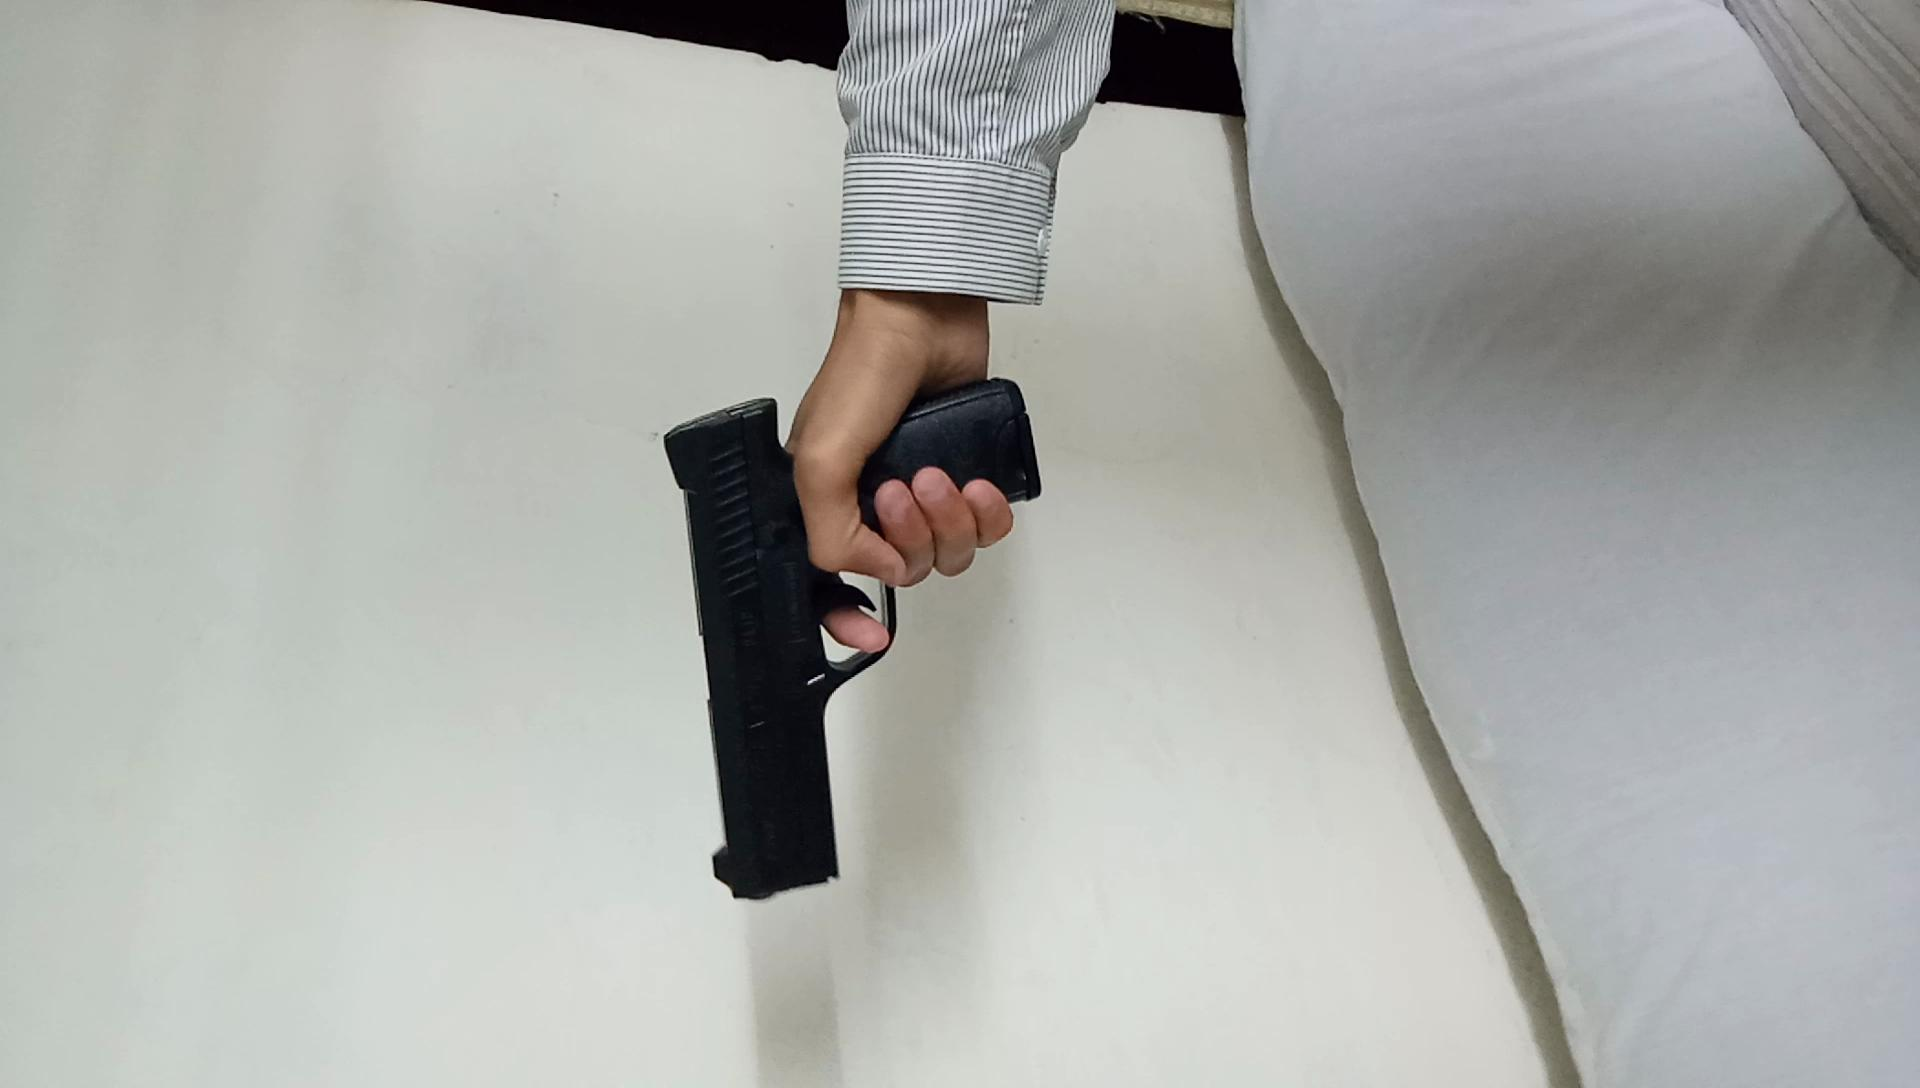weapon: (649, 368, 1063, 917)
